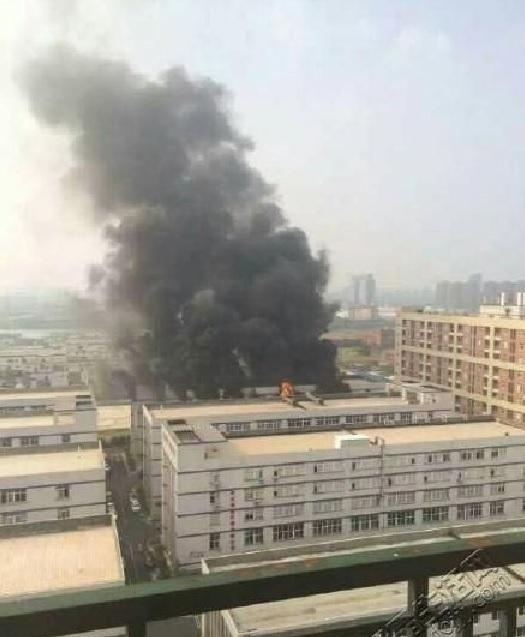fire: (277, 377, 295, 399)
